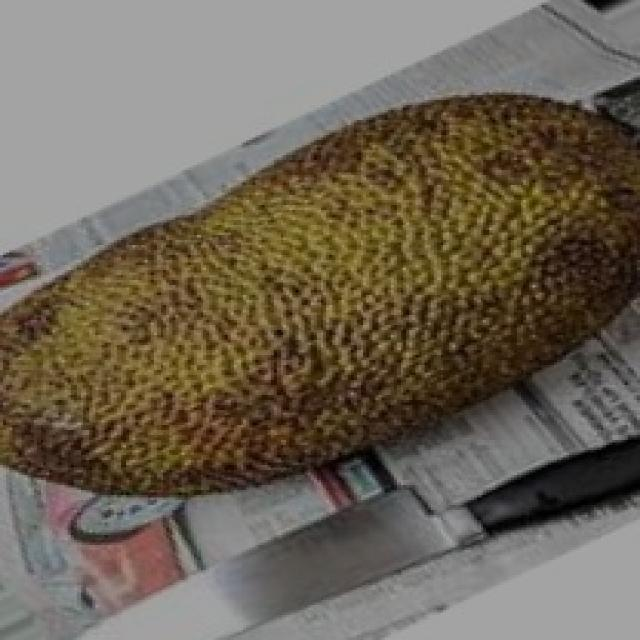Fruit: (3, 150, 422, 528), (224, 62, 640, 429)
